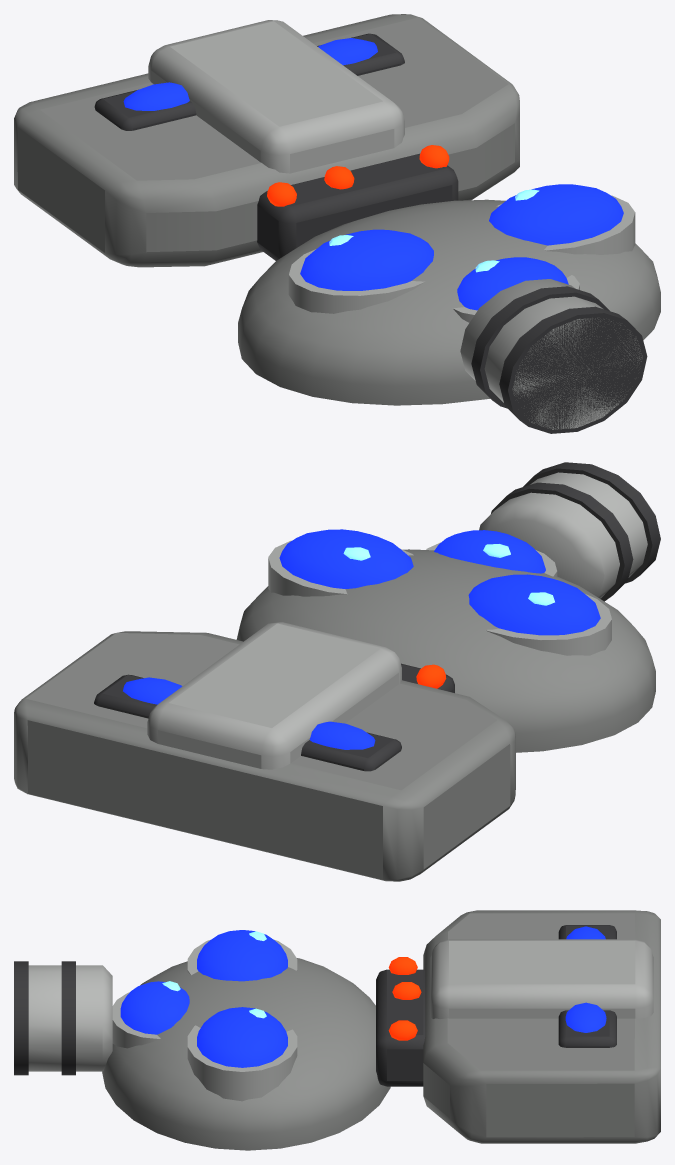
File: store_generator_19.glb
The picture shows the model from 3 angles, top to bottom: view 1: azimuth 30°, elevation 25°; view 2: azimuth 150°, elevation 25°; view 3: azimuth 270°, elevation 25°; orthographic projection. The views are drawn at different scales.
Visible parts, largest first — view 1: steel, steel_light, steel_dark, energy_blue, lamp_red; view 2: steel, steel_light, energy_blue, steel_dark, energy_hot; view 3: steel, steel_light, energy_blue, steel_dark, lamp_red.
Part boxes in pixels (x1=…): steel: x1=14, y1=14, x2=660, y2=405; steel_light: x1=148, y1=20, x2=642, y2=429; steel_dark: x1=94, y1=33, x2=647, y2=433; energy_blue: x1=123, y1=38, x2=623, y2=310; lamp_red: x1=267, y1=145, x2=449, y2=206; steel: x1=14, y1=549, x2=655, y2=881; steel_light: x1=147, y1=472, x2=647, y2=769; energy_blue: x1=123, y1=529, x2=600, y2=749; steel_dark: x1=94, y1=462, x2=660, y2=771; energy_hot: x1=343, y1=544, x2=554, y2=605; steel: x1=102, y1=910, x2=660, y2=1150; steel_light: x1=28, y1=939, x2=653, y2=1101; energy_blue: x1=120, y1=926, x2=606, y2=1067; steel_dark: x1=14, y1=925, x2=616, y2=1086; lamp_red: x1=388, y1=957, x2=421, y2=1040.
Size of the model in its own units: 22 by 6.6 by 35.4.
